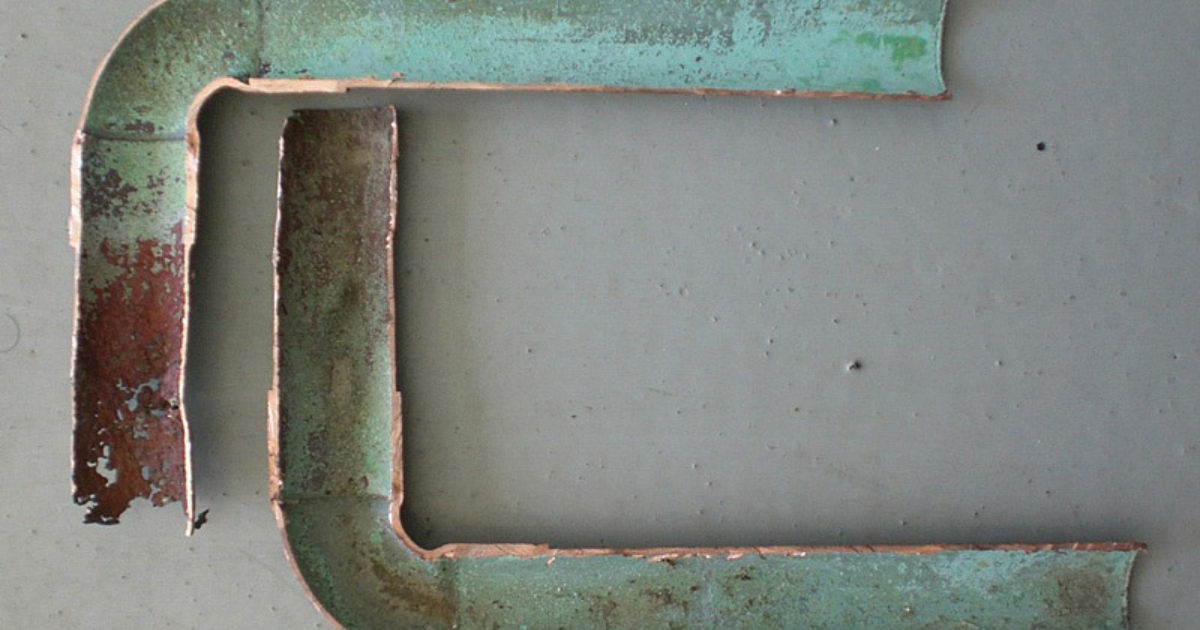Low: (274, 102, 397, 338)
Severe: (74, 216, 194, 547)
